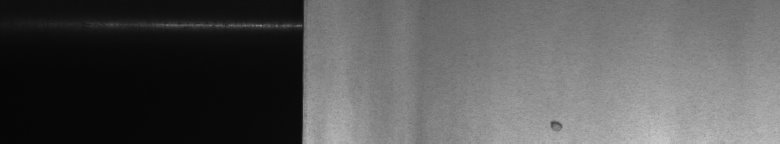fi: (545, 112, 566, 136)
